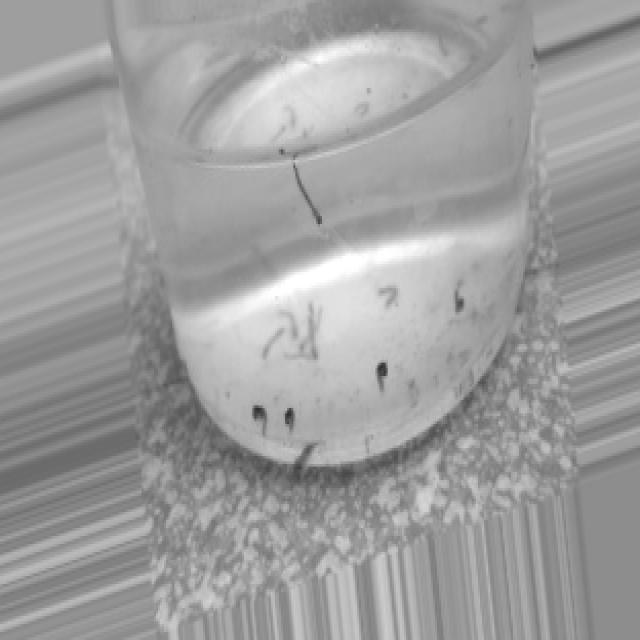larvas: (295, 160, 322, 226), (295, 305, 326, 355), (276, 298, 298, 341), (262, 332, 282, 362), (296, 443, 322, 464), (308, 304, 318, 358), (375, 286, 399, 308), (252, 404, 268, 436), (278, 145, 318, 156), (406, 382, 420, 408), (454, 280, 464, 310), (285, 408, 300, 427), (283, 106, 297, 126), (376, 363, 386, 389), (354, 100, 369, 116), (285, 352, 314, 360), (273, 123, 287, 139)
